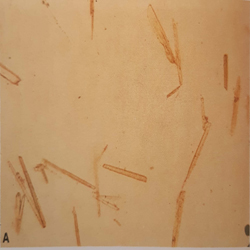Crystal: (137, 2, 195, 101), (5, 152, 46, 238), (37, 153, 101, 198), (183, 117, 214, 186), (102, 156, 158, 190), (170, 187, 189, 249), (64, 204, 87, 250), (1, 56, 24, 101), (232, 70, 245, 143), (214, 49, 232, 92)
